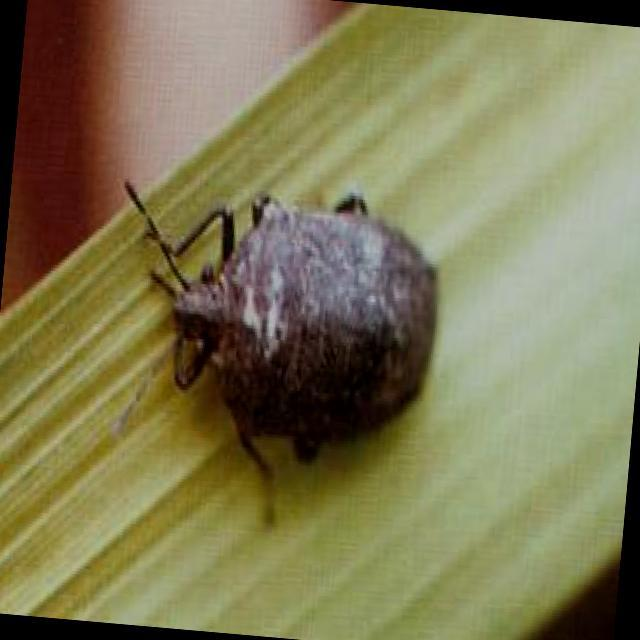ricebug: (126, 182, 436, 520)
